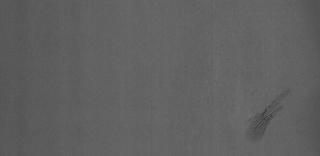water spot: (243, 86, 295, 144)
